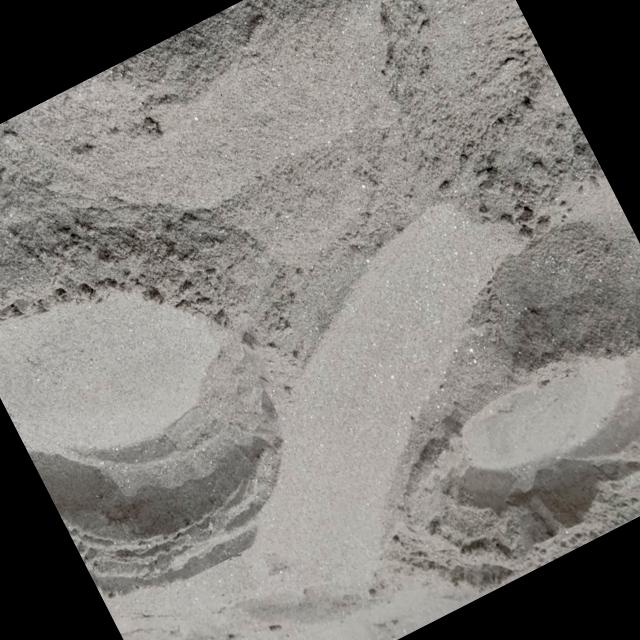C20: (0, 294, 279, 595), (462, 345, 640, 528)
